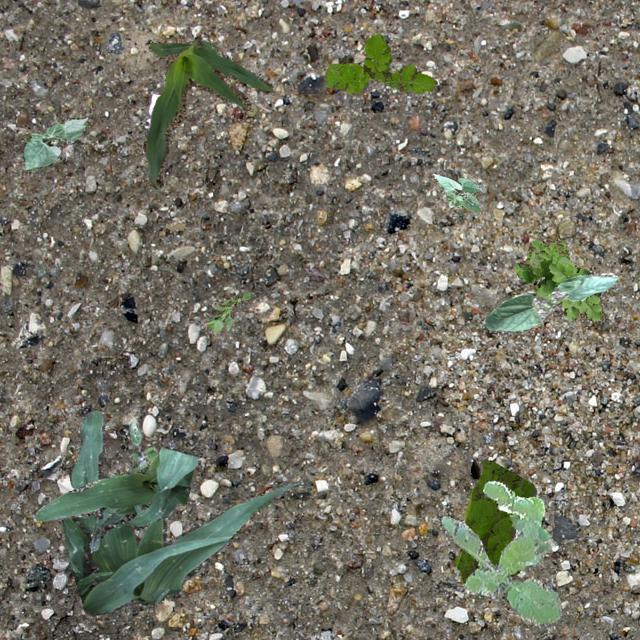crop: (61, 410, 299, 614), (142, 34, 274, 188), (34, 446, 198, 552), (484, 272, 616, 331), (22, 117, 86, 169), (430, 172, 480, 210)
weed: (440, 480, 560, 624), (454, 458, 536, 582), (514, 238, 604, 320), (324, 34, 436, 92), (200, 292, 250, 334), (128, 422, 156, 471)
